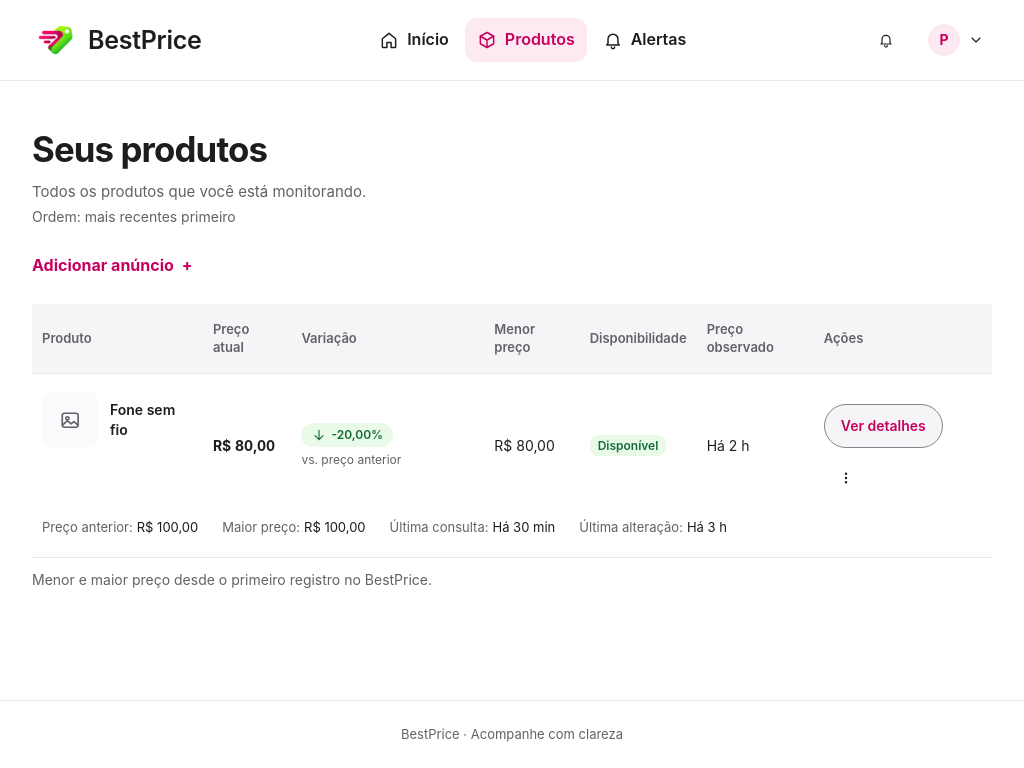
it: ações da linha › oferece Atualizar agora, link externo e Parar de monitorar no menu da linha
Expected: the navigation bar named "Principal" is shown, [367,18,698,62]
Click the button named "Ações de Fone sem fio" below "Ver detalhes" at (846, 478), box [824,456,868,500]
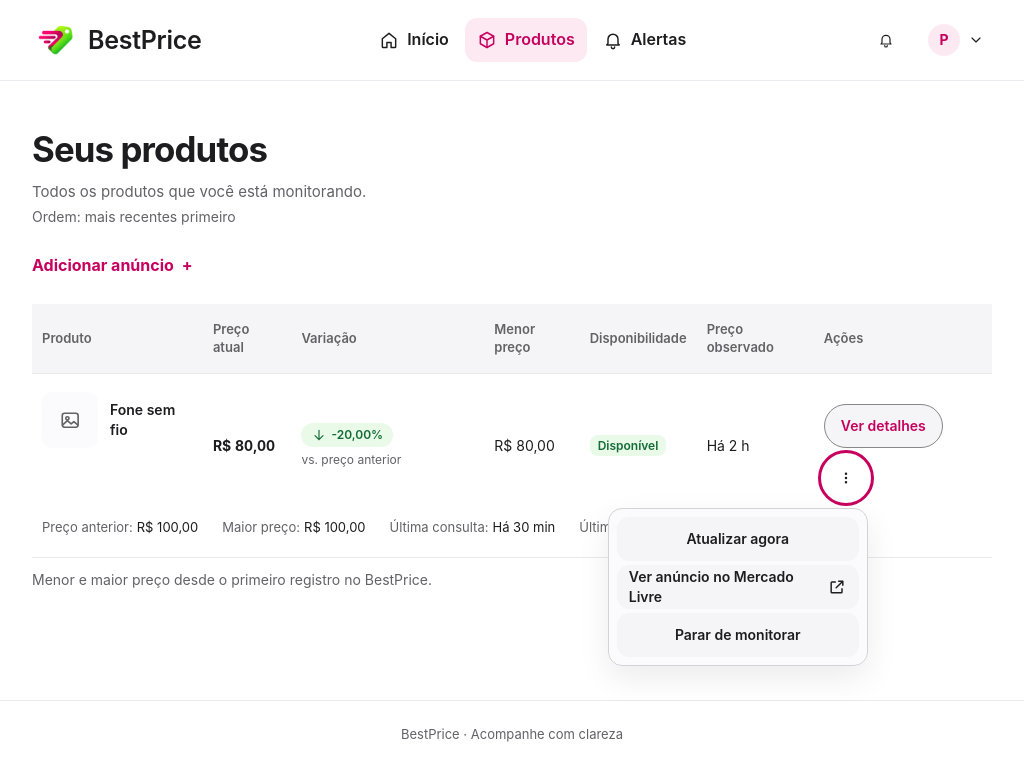
Result: the button "Atualizar agora" is shown at [617,517,859,561]
Result: the button "Parar de monitorar" is shown at [617,613,859,657]
